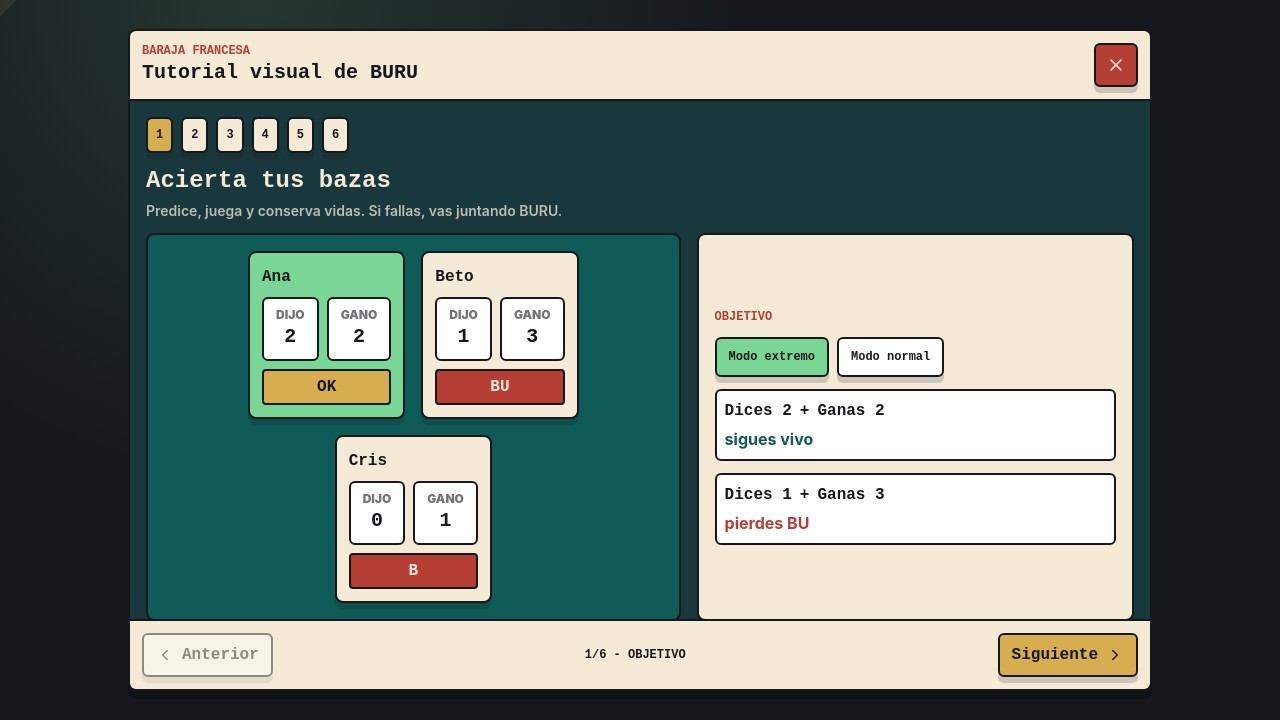
Test: GameRulesTutorial › walks through the visual scenes using a french deck by default
The width and height of the screenshot is (1280, 720).
Expected: the text "Baraja francesa" is shown, [142, 44, 250, 58]
Click the button with aria-label "Siguiente escena": point(1068, 655) [998, 633, 1138, 677]
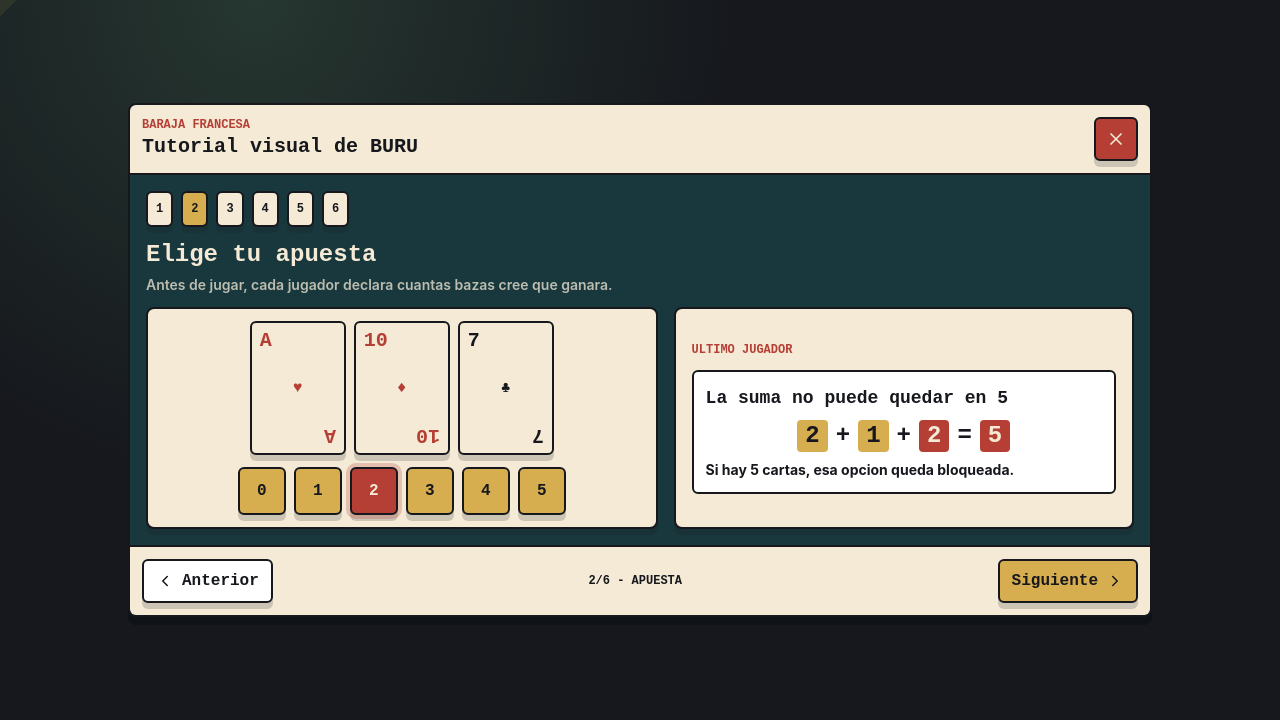
Expected: the heading "Elige tu apuesta" is shown, [146, 241, 376, 268]
Expected: the text "La suma no puede quedar en 5" is shown, [706, 388, 1008, 408]
Click the button with aria-label "Siguiente escena": point(1068, 581) [998, 559, 1138, 603]
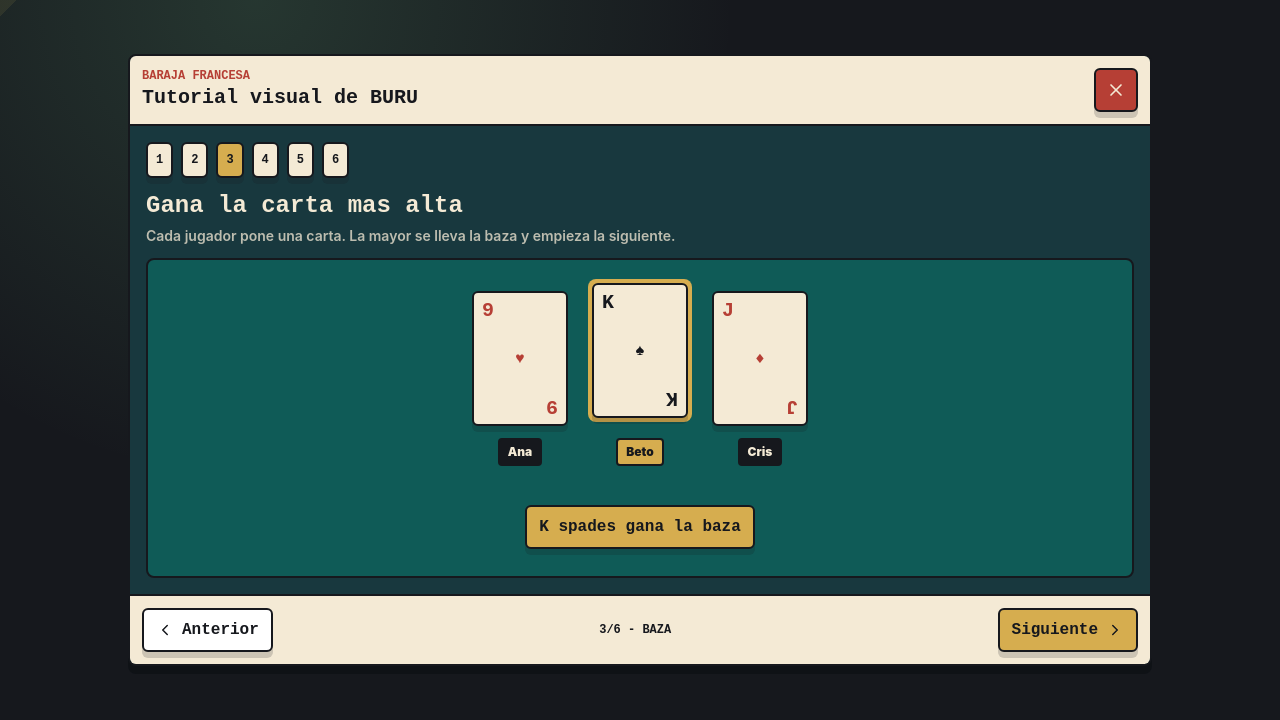
Expected: the heading "Gana la carta mas alta" is shown, [146, 192, 463, 219]
Expected: the text "K spades gana la baza" is shown, [525, 505, 755, 549]
Click the button with aria-label "Siguiente escena": point(1068, 630) [998, 608, 1138, 652]
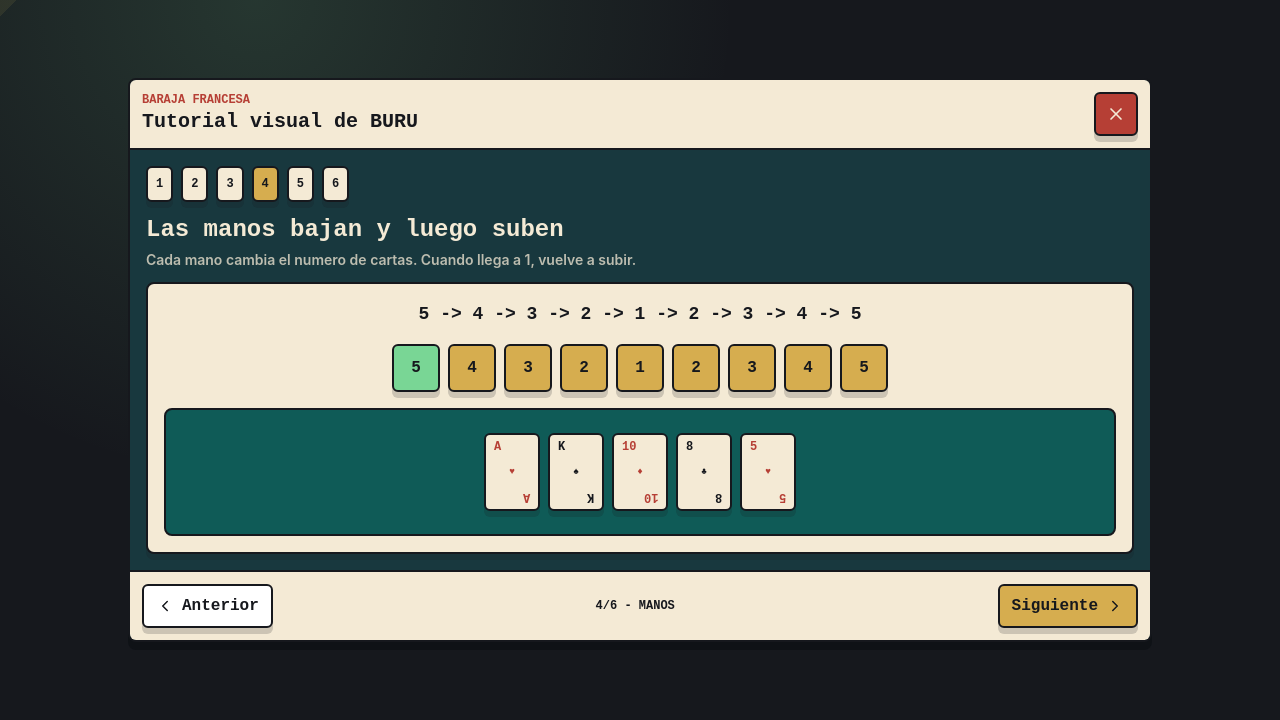
Expected: the text "5 -> 4 -> 3 -> 2 -> 1 -> 2 -> 3 -> 4 -> 5" is shown, [419, 304, 862, 324]
